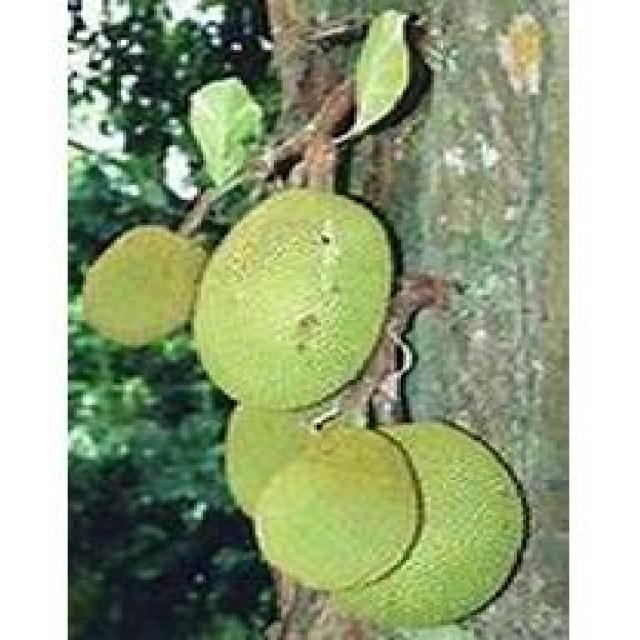Fruit: (197, 395, 545, 635), (170, 167, 418, 435)
